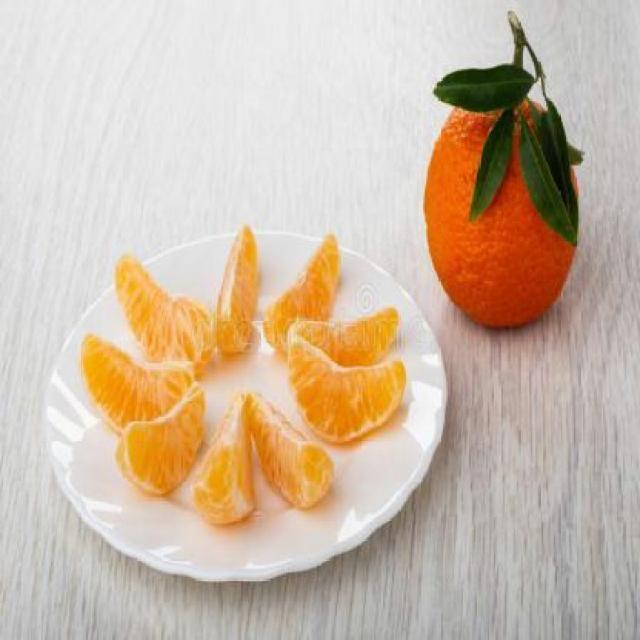Jeruk Sudah Matang: (426, 93, 582, 327)
